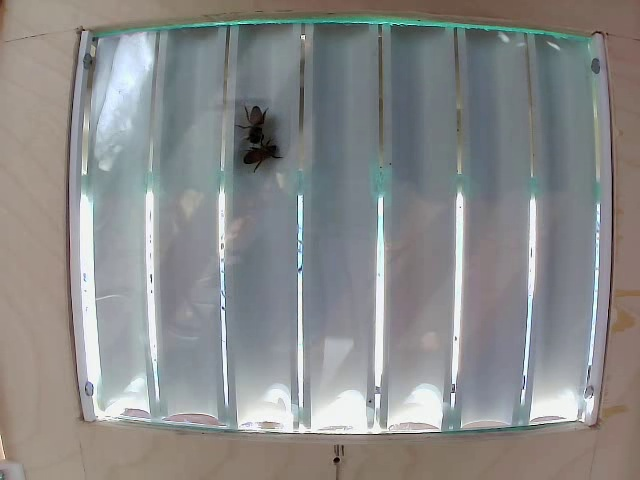bee: (234, 106, 271, 140), (239, 145, 291, 169)
